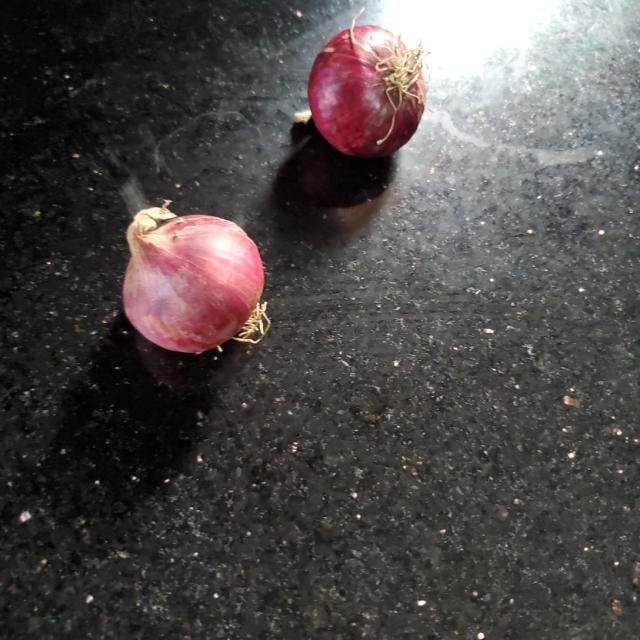onion: (117, 214, 260, 352), (304, 28, 423, 158)
